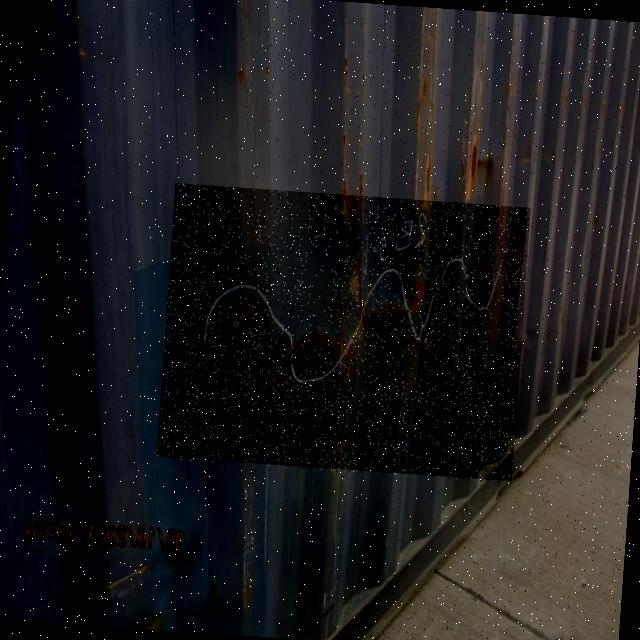Dent: (156, 183, 530, 483)
